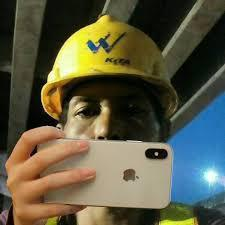helmet: (41, 14, 179, 119)
